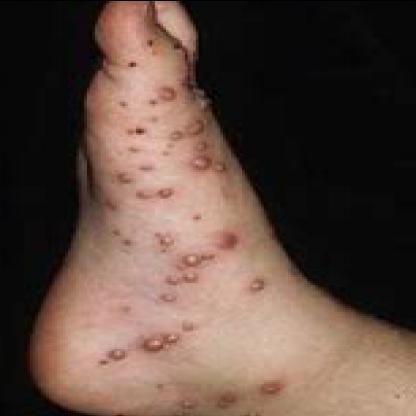Fire ant: (155, 216, 245, 302), (163, 120, 237, 178), (144, 317, 201, 358), (149, 82, 215, 113), (144, 33, 190, 64), (98, 346, 130, 373), (138, 186, 180, 202), (108, 227, 138, 249), (250, 274, 272, 296), (168, 403, 208, 415), (114, 169, 136, 189), (98, 196, 125, 212), (266, 383, 290, 400), (218, 392, 236, 412), (138, 163, 160, 177), (125, 146, 147, 156), (111, 410, 134, 415), (239, 412, 267, 415)
